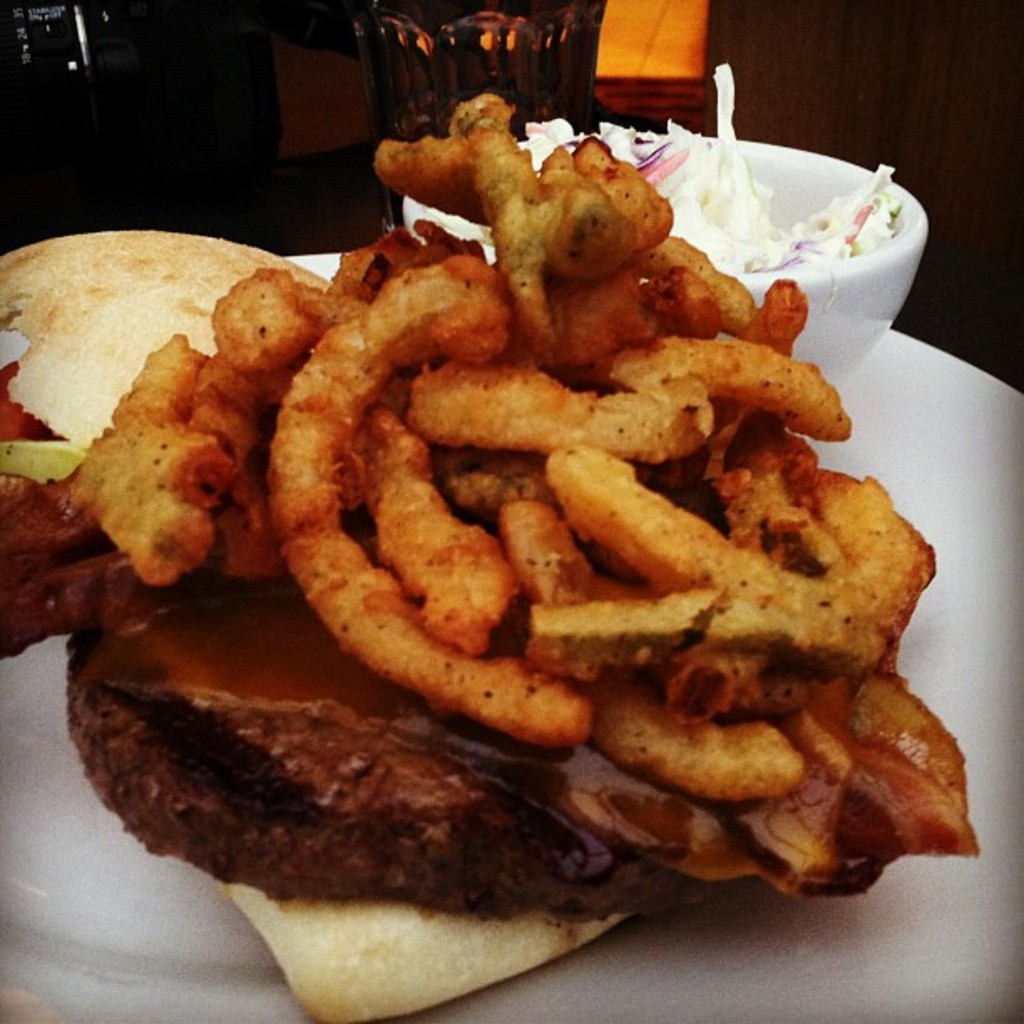French fries: (182, 202, 910, 803)
